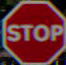Stop: (0, 6, 62, 53)
